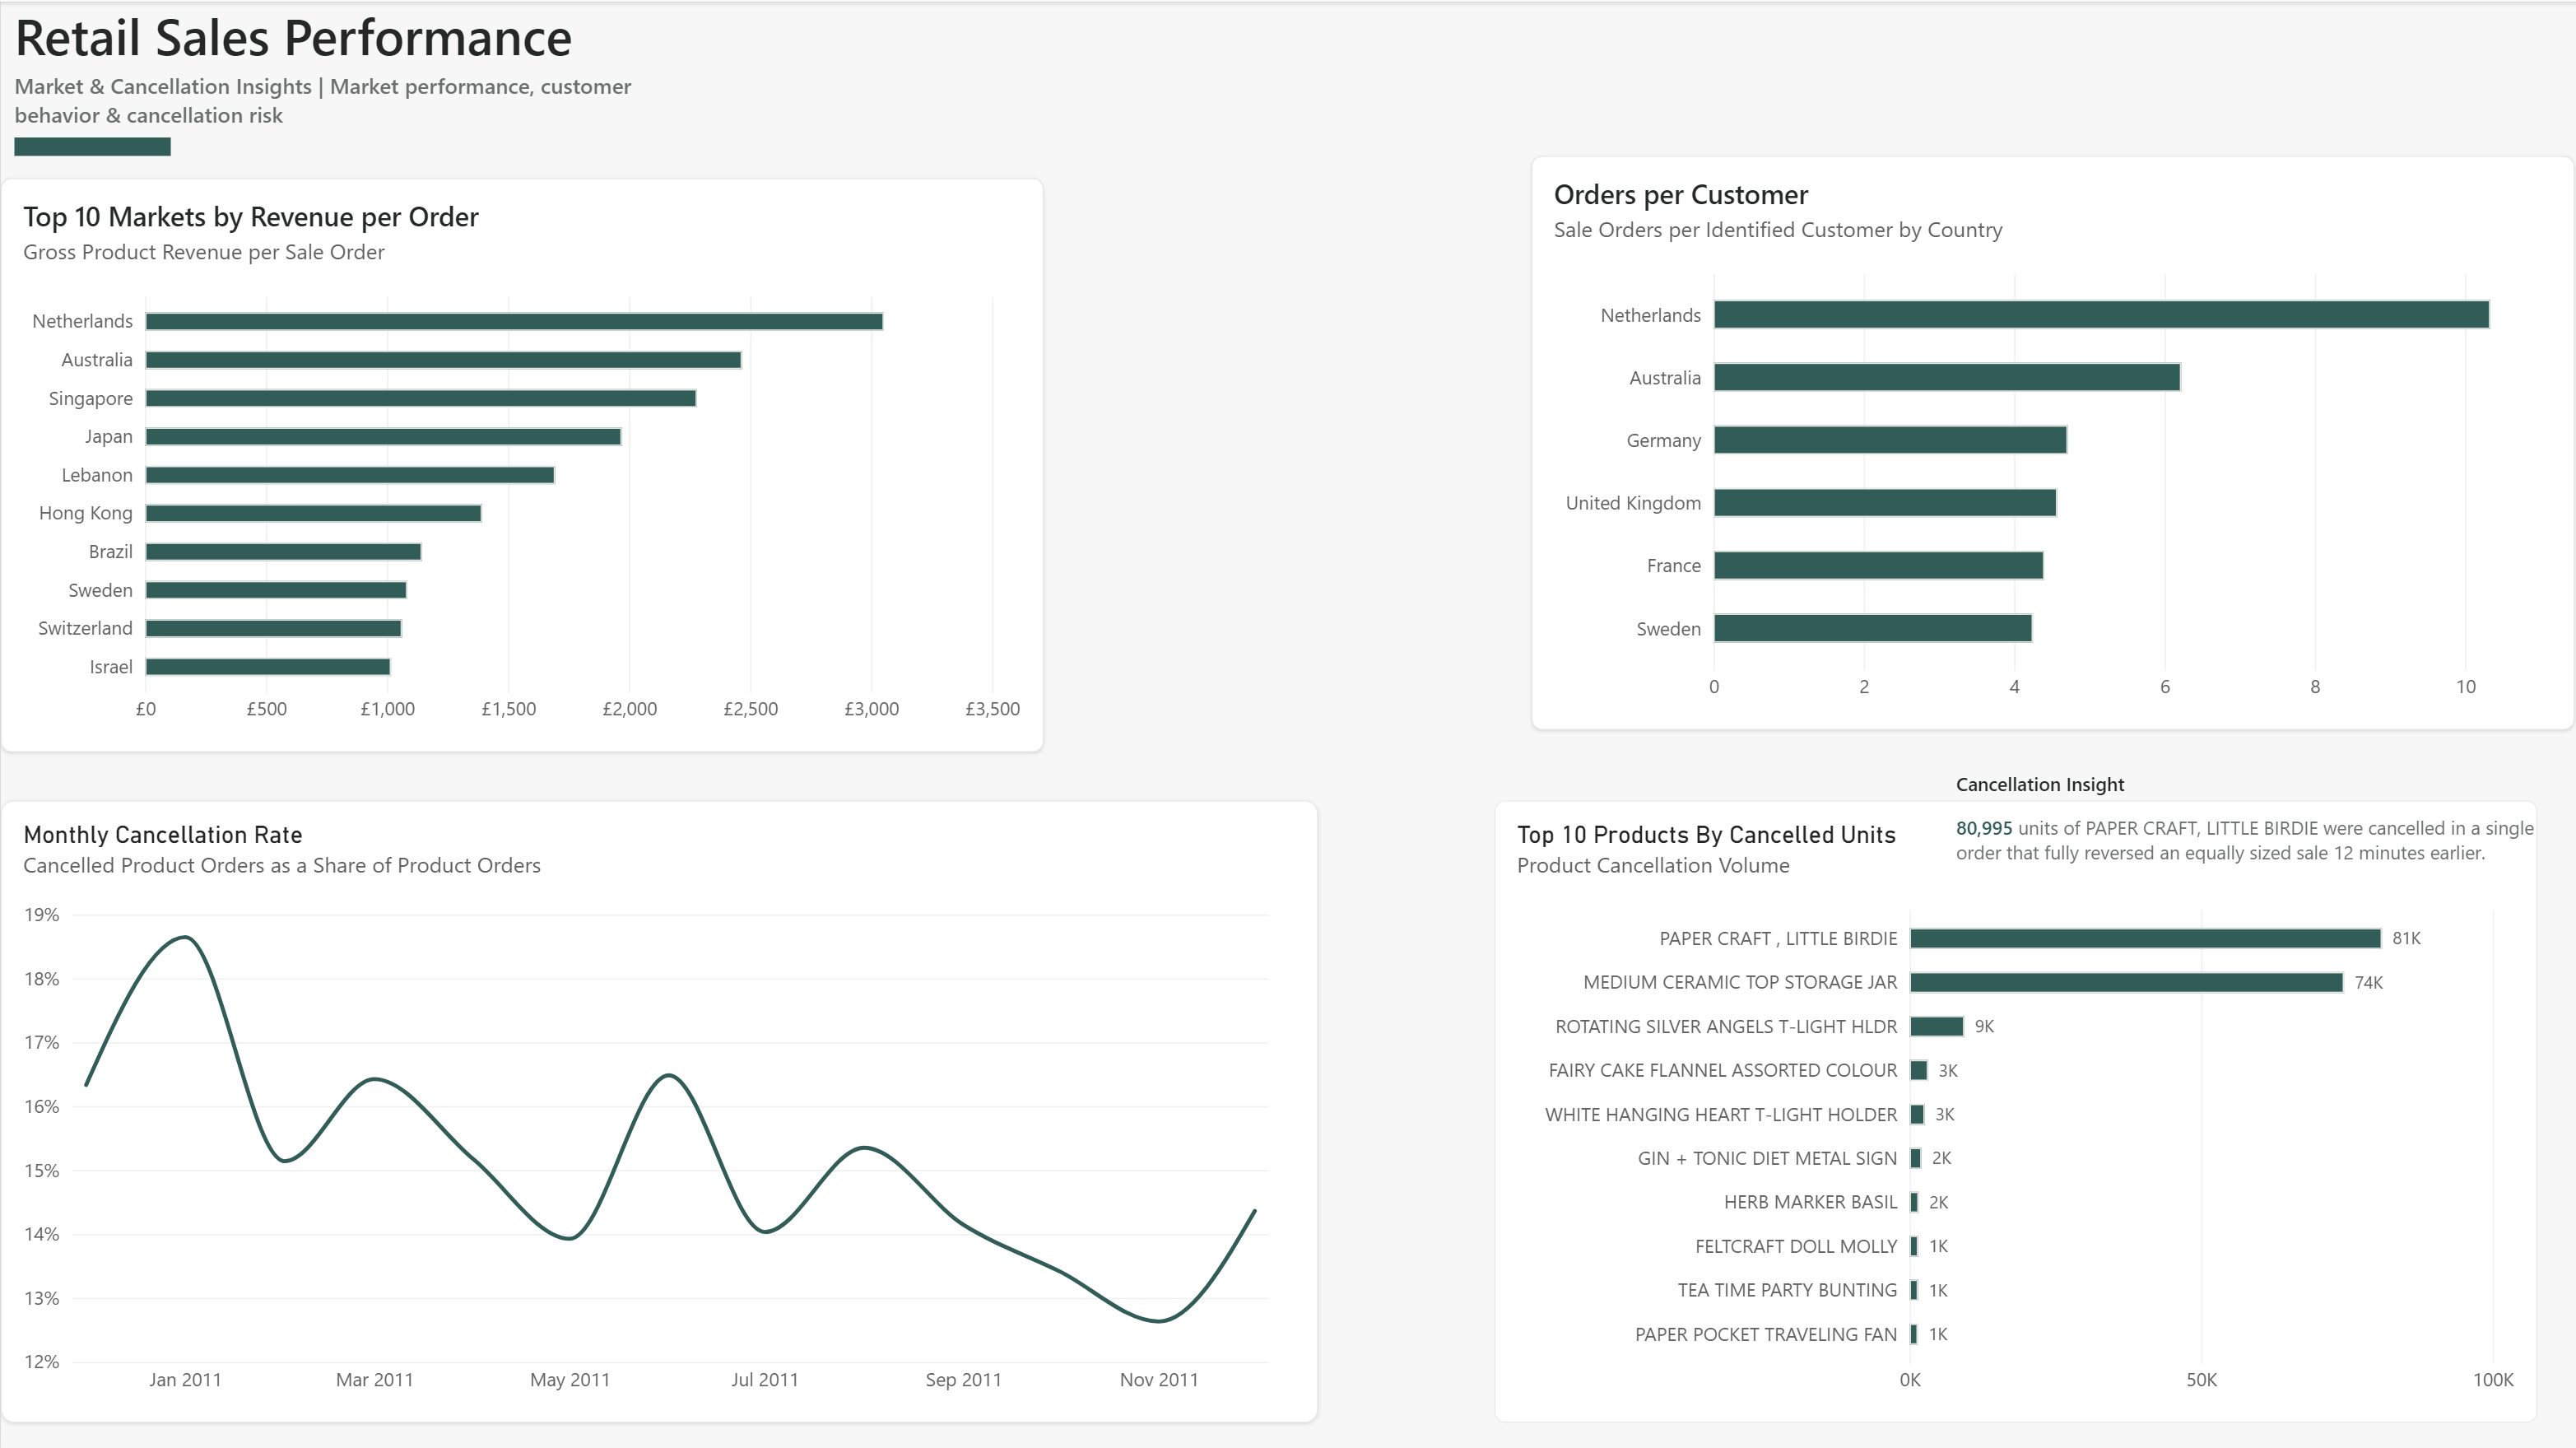

What the dashboard file says about the page in this screenshot:
{"tool":"powerbi","page":{"name":"Market & Cancellation Insights","canvas":[1920,1080],"ordinal":2},"visuals":[{"type":"textbox","box":[9.8,0,513,64.7],"z":0},{"type":"textbox","box":[9.8,52,494.4,49],"z":1000},{"type":"shape","box":[9.8,101,116.7,13.7],"z":2000},{"type":"clusteredBarChart","title":"Top 10 Markets by Revenue per Order","fields":{"Category":["online_retail_clean.Country"],"Y":["online_retail_clean.Revenue per Order"]},"box":[0,131.4,777.9,427.7],"z":3000},{"type":"clusteredBarChart","title":"Orders per Customer","fields":{"Category":["online_retail_clean.Country"],"Y":["online_retail_clean.Orders per Customer"]},"box":[1142.1,114.8,777.9,427.7],"z":4000},{"type":"lineChart","title":"Monthly Cancellation Rate","fields":{"Category":["online_retail_clean.YearMonth"],"Y":["online_retail_clean.Cancellation Rate"]},"box":[0,595.4,982.9,464],"z":5000},{"type":"clusteredBarChart","title":"Top 10 Products By Cancelled Units","fields":{"Category":["online_retail_clean.Description"],"Y":["online_retail_clean.Cancelled Units"]},"box":[1114.3,595.4,778,464],"z":6000},{"type":"textbox","box":[1458.6,573.8,254.1,21.6],"z":7000},{"type":"textbox","box":[1458.6,606.2,433.6,55.9],"z":7001}]}

Visuals, with their boxes in screenshot pixels (x1, y1, x2, y2), scaled from the page's 1920x1080 canvas onto the 2576x1448 screenshot:
textbox: x1=13 y1=0 x2=701 y2=86
textbox: x1=13 y1=70 x2=677 y2=135
shape: x1=13 y1=135 x2=170 y2=154
"Top 10 Markets by Revenue per Order" clusteredBarChart: x1=0 y1=176 x2=1044 y2=750
"Orders per Customer" clusteredBarChart: x1=1532 y1=154 x2=2575 y2=728
"Monthly Cancellation Rate" lineChart: x1=0 y1=798 x2=1318 y2=1420
"Top 10 Products By Cancelled Units" clusteredBarChart: x1=1495 y1=798 x2=2539 y2=1420
textbox: x1=1957 y1=770 x2=2298 y2=798
textbox: x1=1957 y1=812 x2=2539 y2=887
